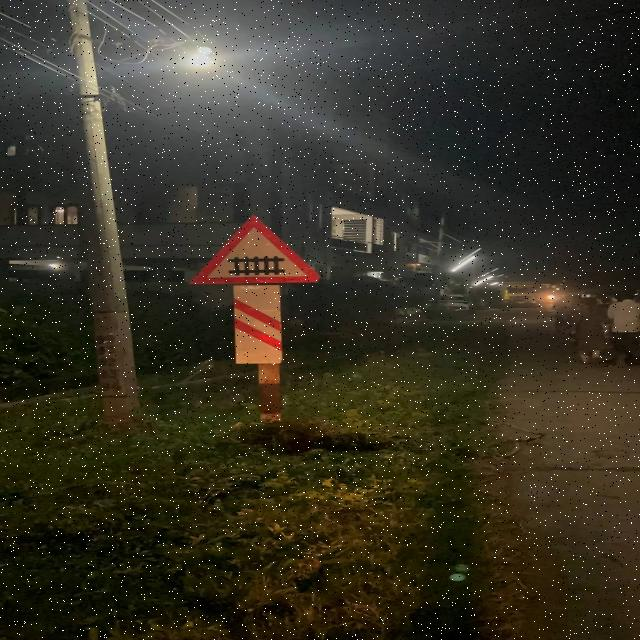200 metres: (196, 212, 324, 370)
